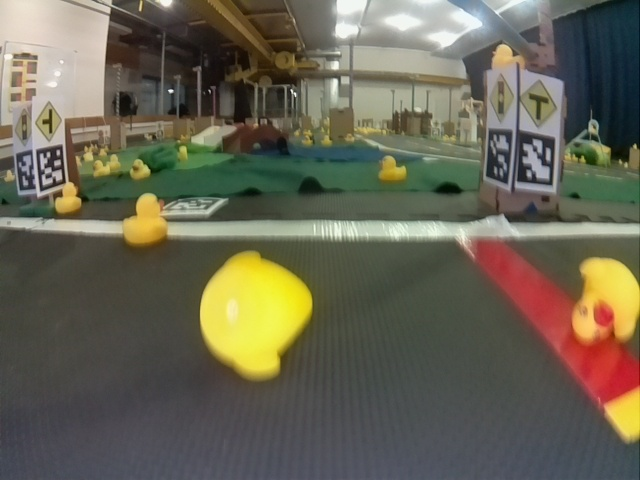Duckie: (202, 251, 306, 378), (574, 258, 637, 343), (123, 194, 167, 244), (491, 45, 524, 69), (378, 155, 407, 181), (56, 183, 81, 213), (130, 159, 149, 177), (92, 163, 108, 177)
Intersection sign: (521, 81, 558, 130), (36, 103, 61, 140)
QR code: (516, 130, 556, 186), (485, 131, 512, 184), (162, 196, 227, 215), (37, 149, 65, 190), (16, 149, 35, 192)
Signal sign: (490, 75, 515, 122), (13, 110, 30, 144)
